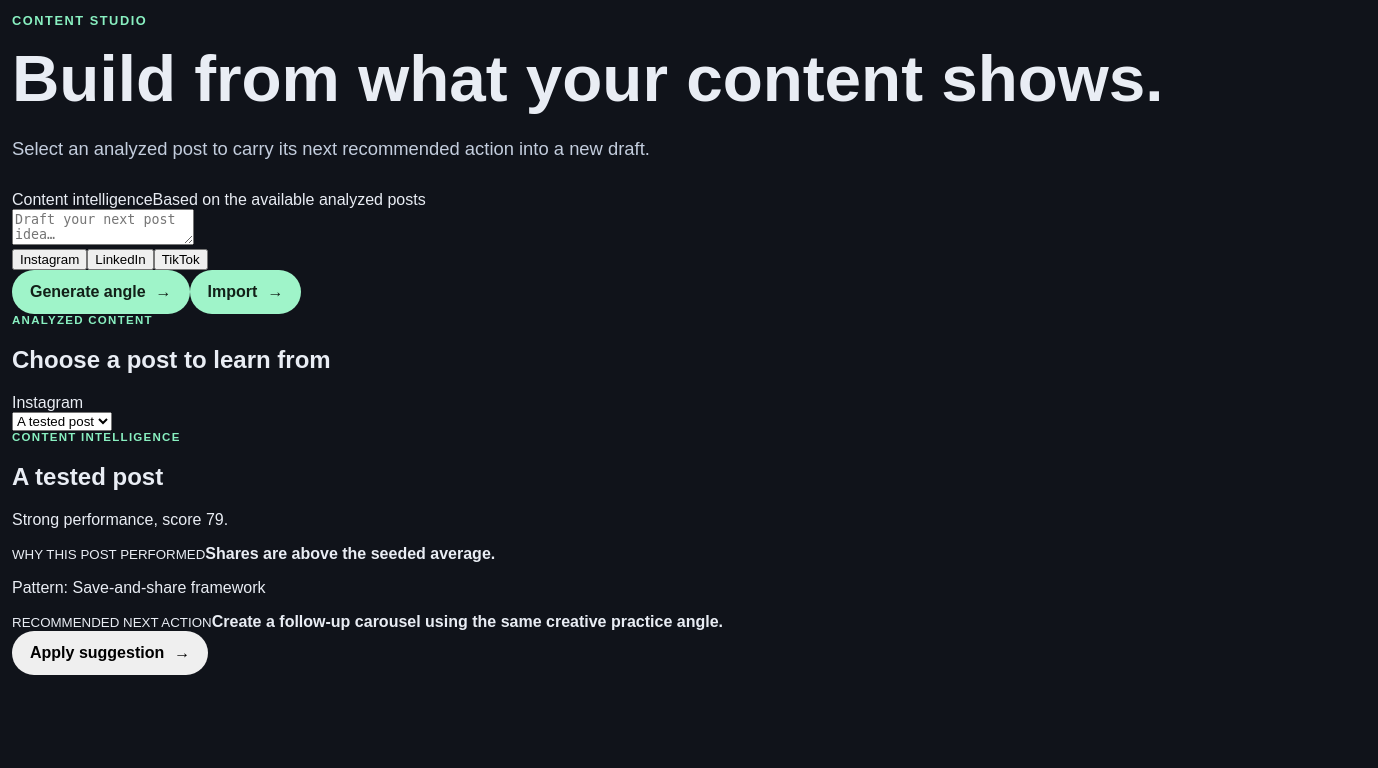
Test: ContentPage › shows a validation error for malformed import JSON
Check: the heading "A tested post" is shown, box [12,463,163,490]
Click the button "Import →" at (246, 292), box [190,270,301,314]
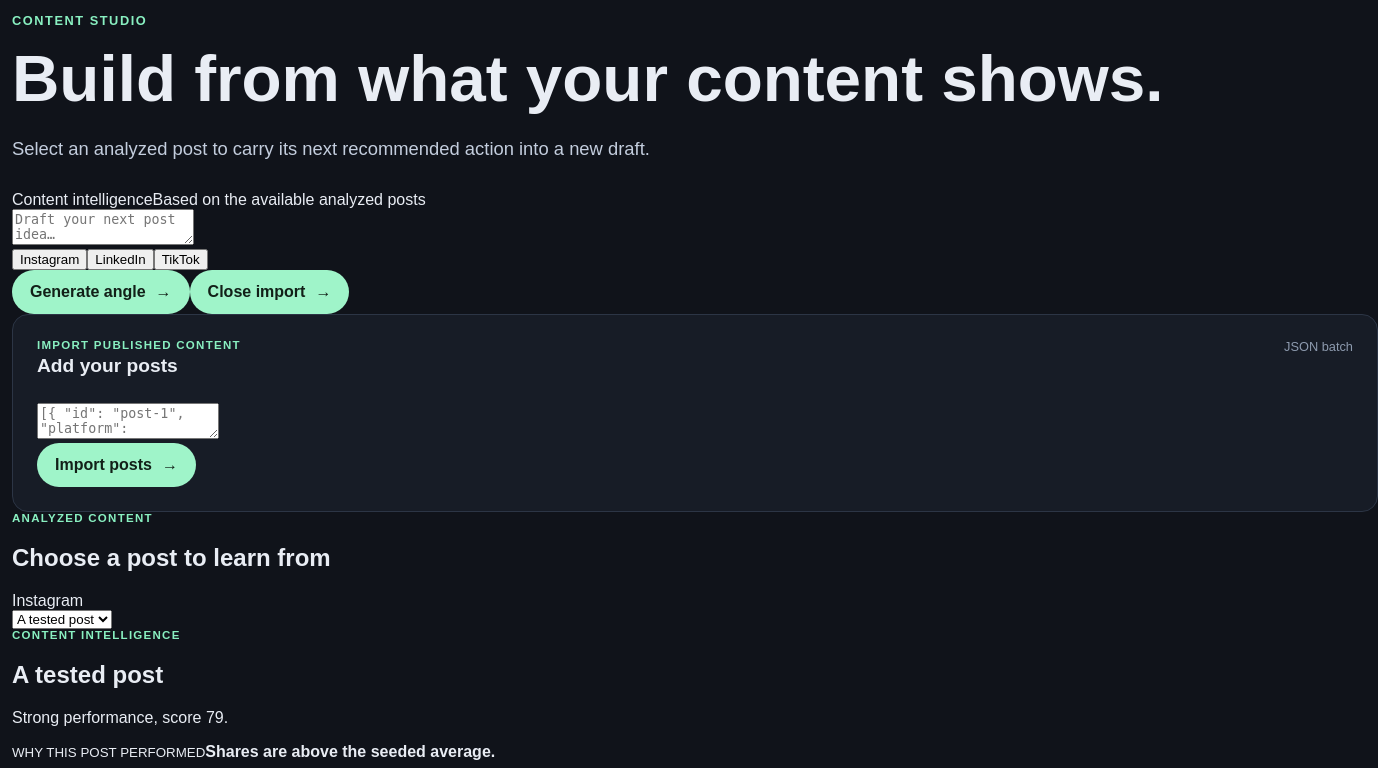
Replace the text in the text box named "Content JSON" with "not json" at (128, 421), box [37,403,219,439]
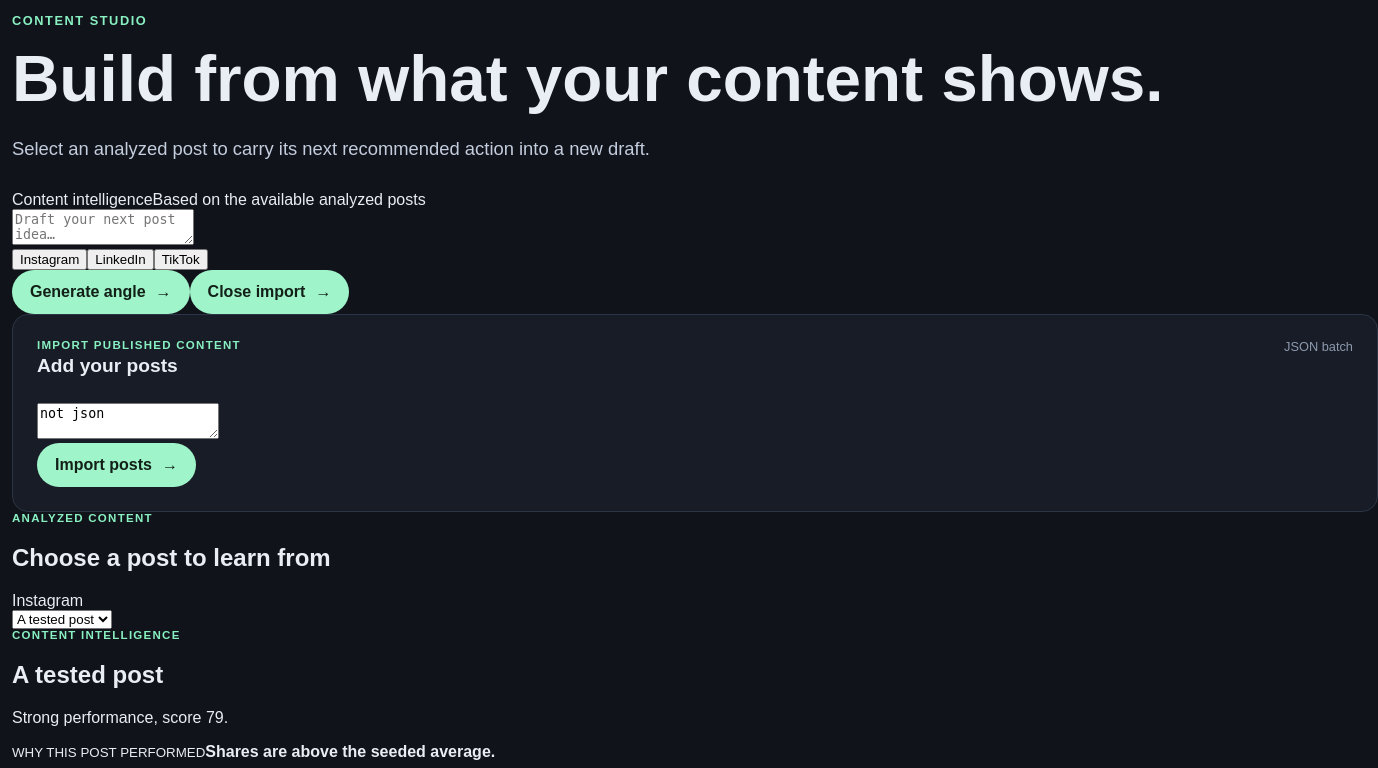
Click the button "Import posts →" at (116, 465), box [37,443,196,487]
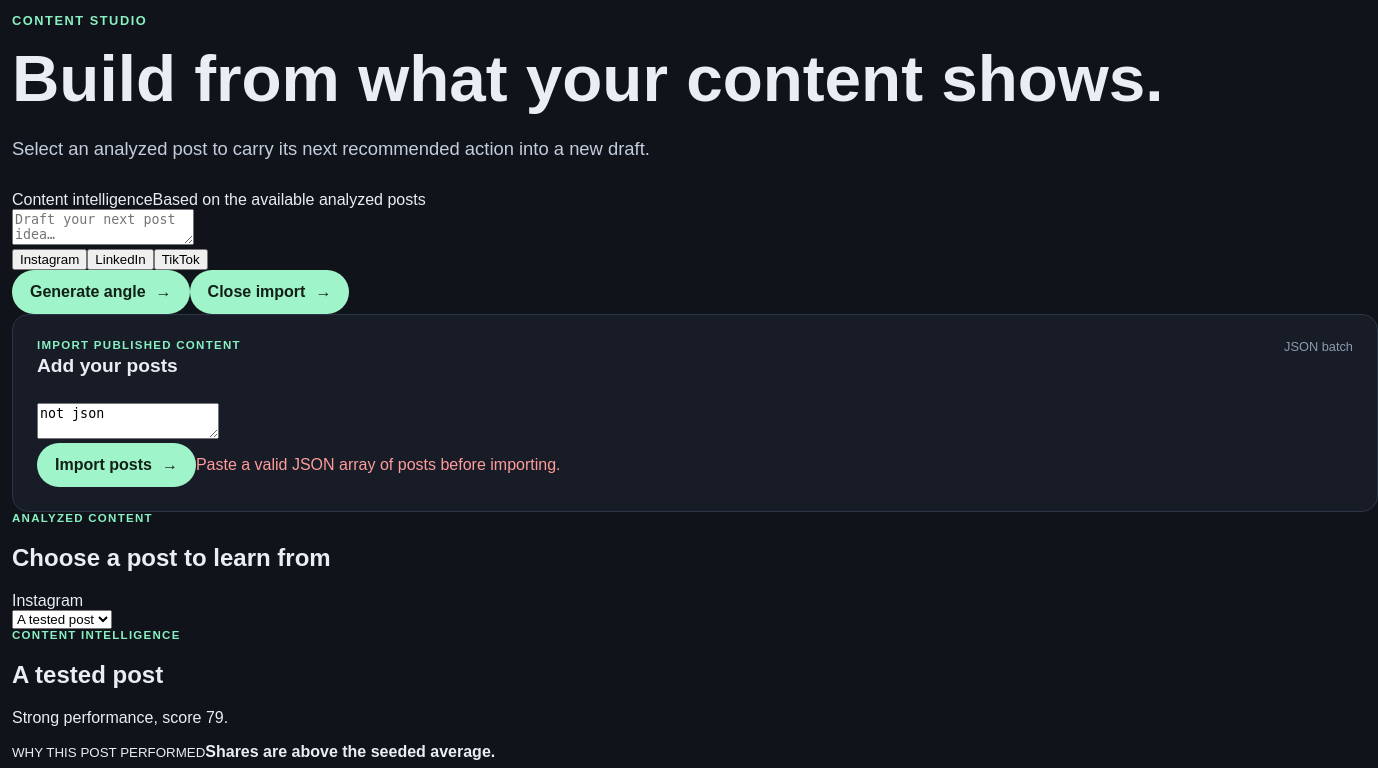
Check: the text "Paste a valid JSON array of posts before importing." is shown, box [196,456,560,473]
